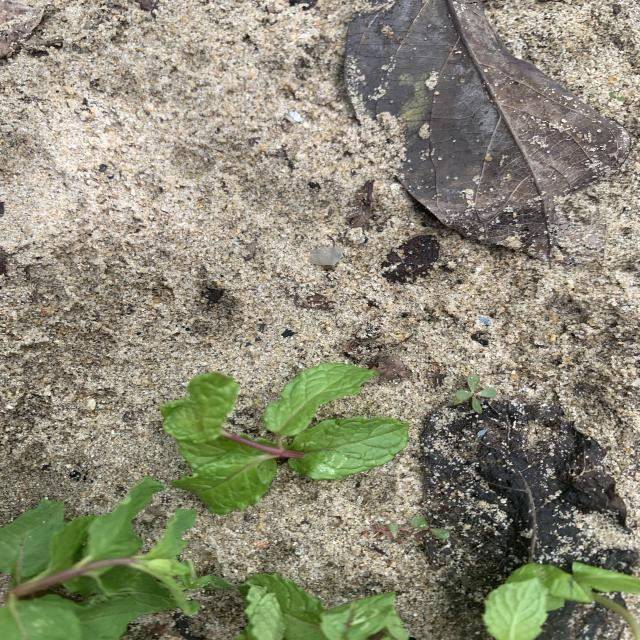crop: (161, 363, 408, 515), (0, 477, 230, 640), (483, 562, 640, 640), (237, 572, 408, 639), (235, 574, 409, 639)
weed: (363, 516, 449, 539), (453, 375, 495, 413)
